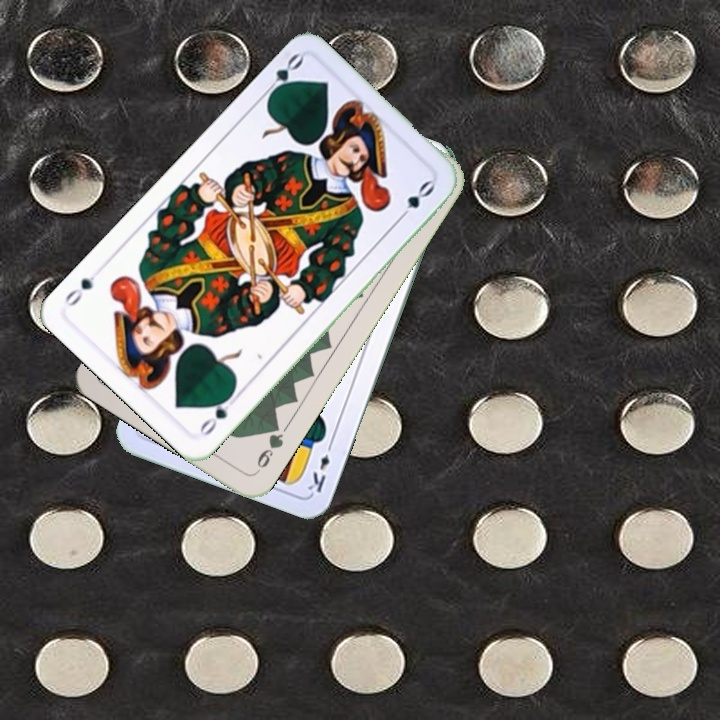EK: (303, 438, 335, 496)
G9: (252, 418, 286, 476)
GO: (258, 49, 306, 102), (195, 388, 241, 439)
